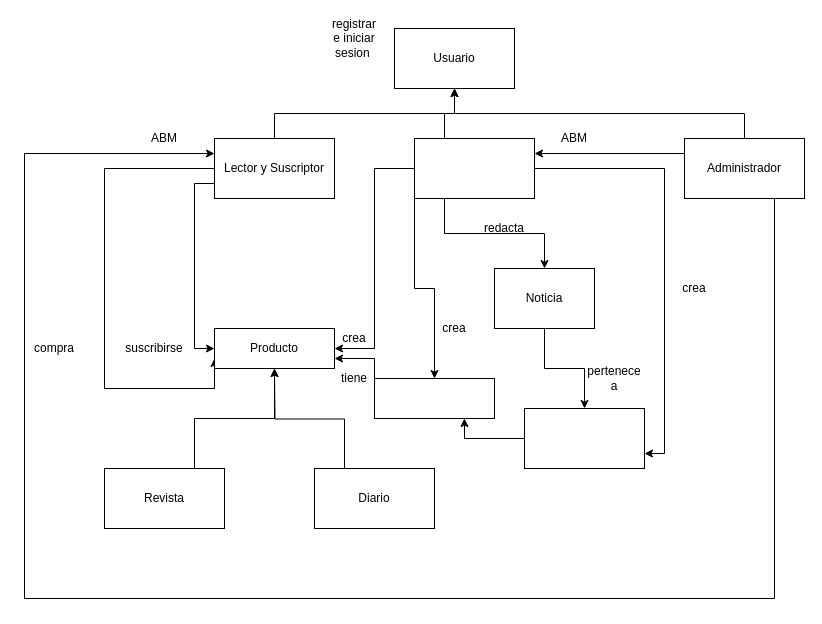
The diagram is 822 pixels wide and 624 high, and some of its shapes have lost their labels. The box of each missing label's shape, as (x1, y1, x2, y2) in pixels:
Contenidista: (414, 138, 534, 198)
Edicion: (374, 378, 494, 418)
Seccion: (524, 408, 644, 468)
